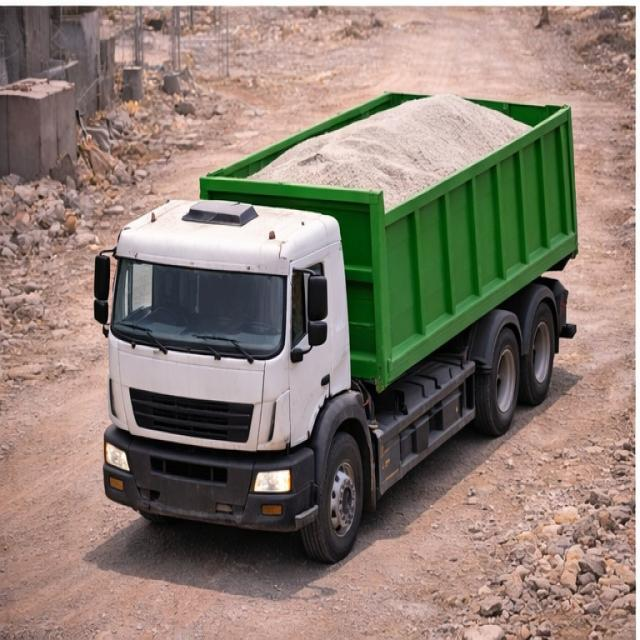trailer: (202, 90, 576, 210)
truck: (91, 64, 583, 546)
